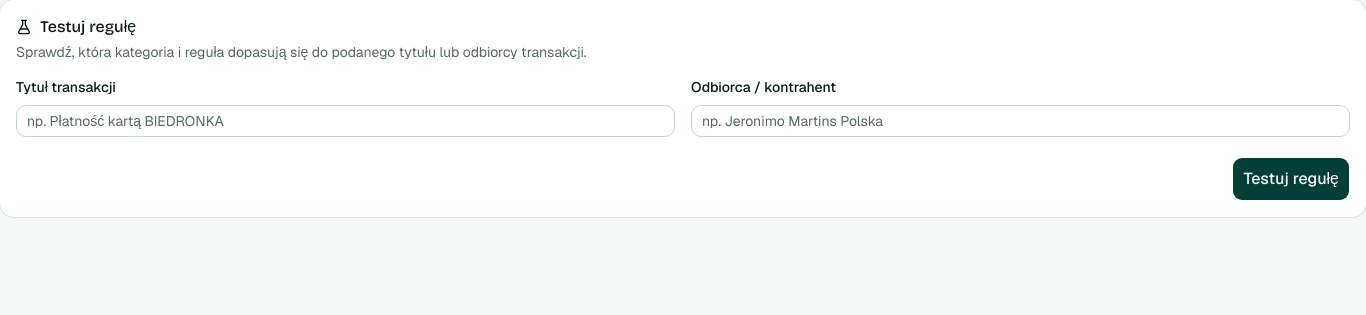
Test: RuleTester › submits title and counterparty and displays matched category and rule details
Type "Płatność kartą BIEDRONKA" into the field labelled "Tytuł transakcji" at (346, 121), box [16, 105, 675, 137]
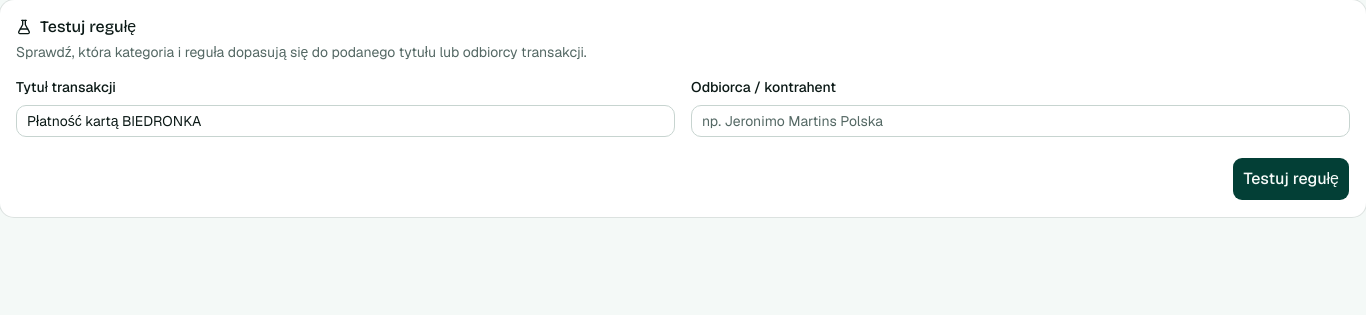
Type "Jeronimo Martins Polska" into the field labelled "Odbiorca / kontrahent" at (1020, 121), box [691, 105, 1350, 137]
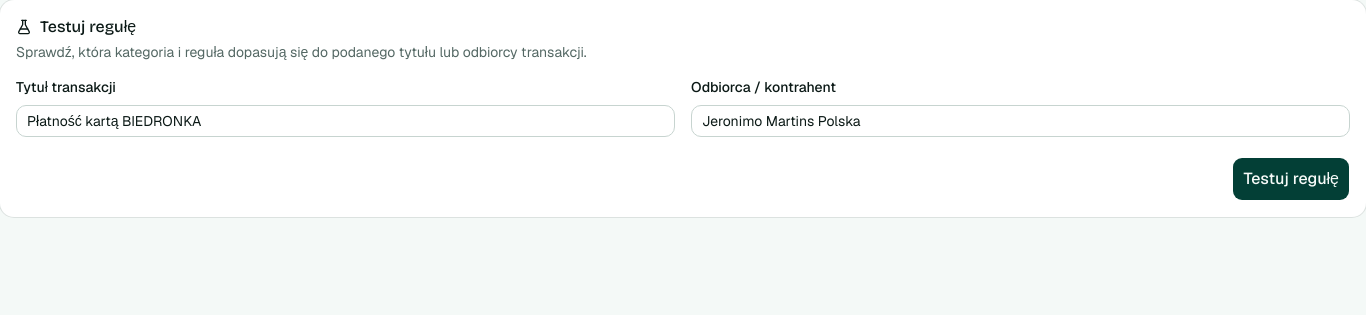
Click the button "Testuj regułę" at (1291, 179), box [1232, 157, 1350, 201]
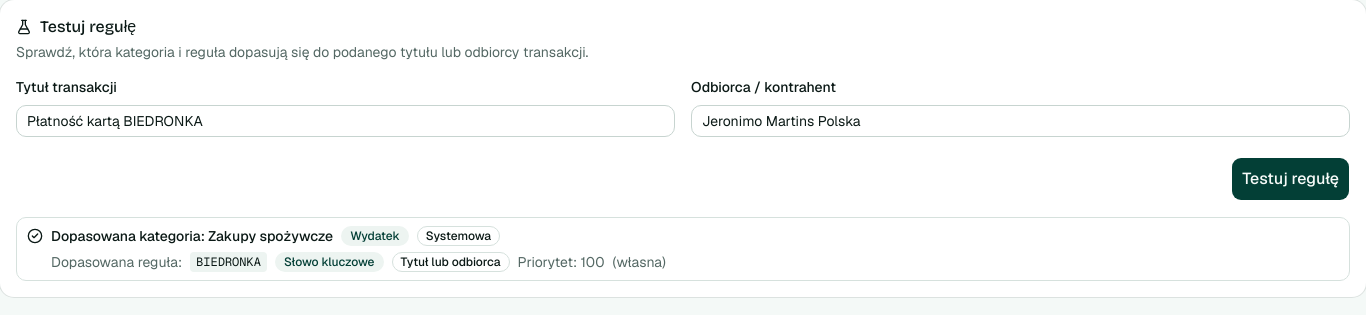
Result: the text "Dopasowana kategoria: Zakupy spożywcze" is shown at [51, 226, 333, 246]
Result: the text "Wydatek" is shown at [341, 226, 409, 246]
Result: the text "Systemowa" is shown at [417, 226, 500, 246]
